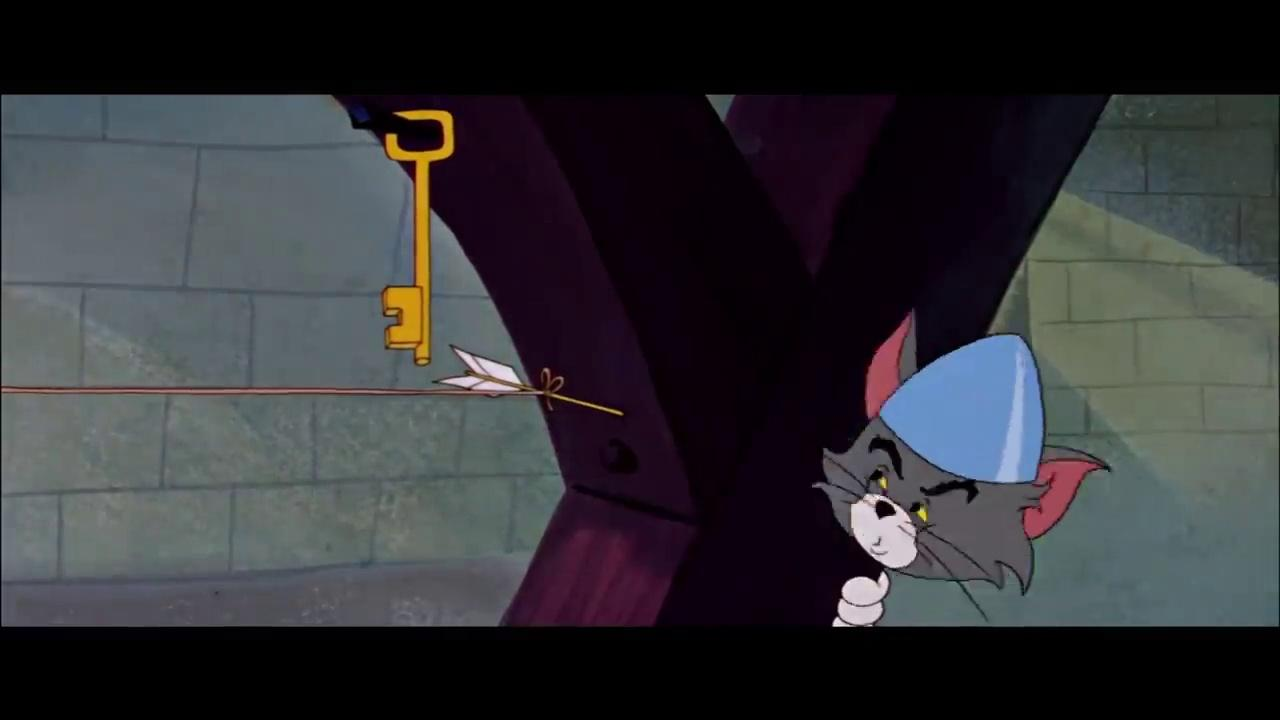Tom: (809, 303, 1115, 627)
